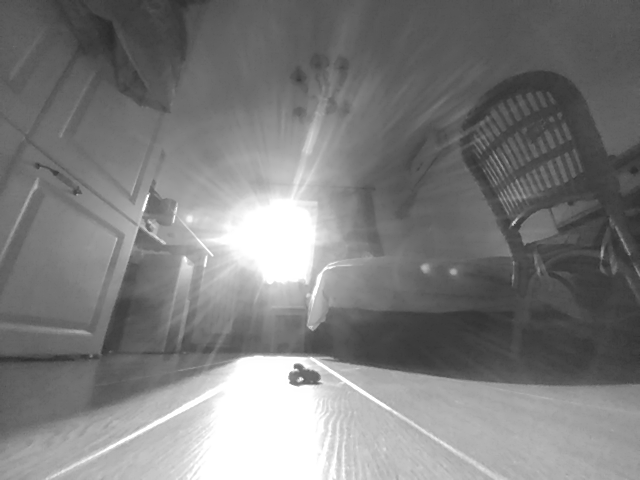curtain: (229, 190, 271, 354)
pet feces: (287, 362, 322, 387)
